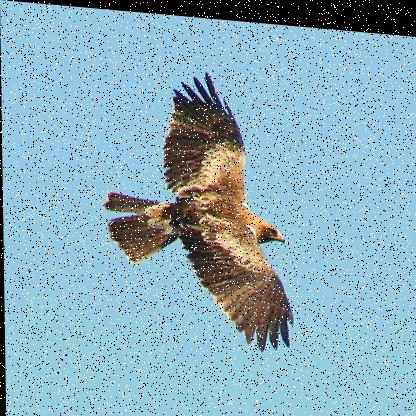Burung: (101, 60, 302, 343)
